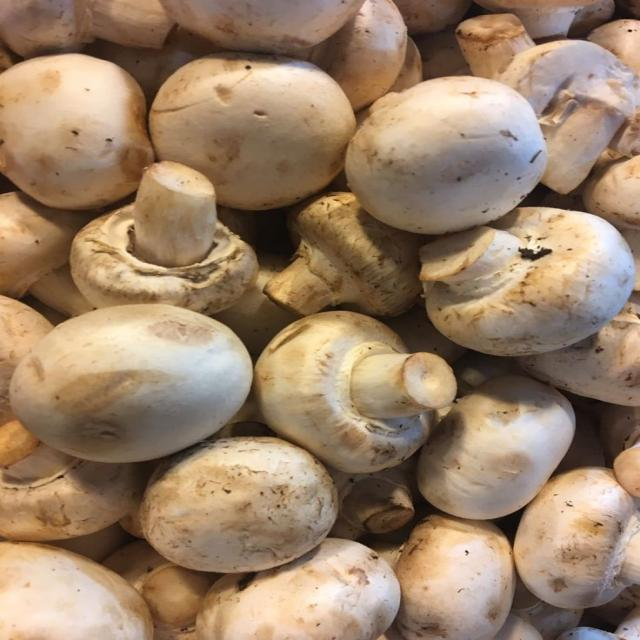champignon mushrooms: (11, 305, 252, 461), (150, 53, 355, 210), (254, 312, 455, 472), (421, 208, 635, 355), (347, 77, 546, 234), (71, 162, 257, 314), (140, 438, 338, 572), (0, 54, 153, 209), (418, 376, 574, 519), (497, 40, 639, 193), (197, 539, 399, 639), (265, 193, 424, 315), (514, 468, 639, 608), (0, 433, 142, 541), (395, 515, 514, 639), (0, 543, 153, 639), (519, 293, 639, 406), (104, 541, 219, 639), (310, 0, 407, 111), (162, 0, 362, 53), (85, 28, 220, 103), (0, 192, 90, 298), (214, 254, 299, 356), (0, 296, 53, 424), (330, 460, 414, 539), (0, 0, 94, 57), (456, 14, 534, 78), (382, 305, 466, 364), (477, 0, 599, 39), (511, 580, 583, 639), (583, 156, 639, 230), (91, 0, 173, 48), (29, 264, 95, 319), (600, 405, 639, 497), (555, 404, 606, 474), (47, 523, 131, 562), (453, 351, 523, 396), (414, 29, 472, 81), (588, 19, 639, 73), (395, 0, 472, 34), (557, 608, 639, 639), (591, 586, 639, 626), (0, 421, 39, 468), (389, 38, 422, 91), (569, 0, 615, 37), (494, 614, 543, 639), (620, 229, 639, 290), (616, 0, 639, 18)
